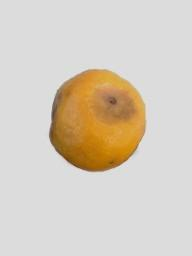Unripe: (52, 70, 147, 172)
